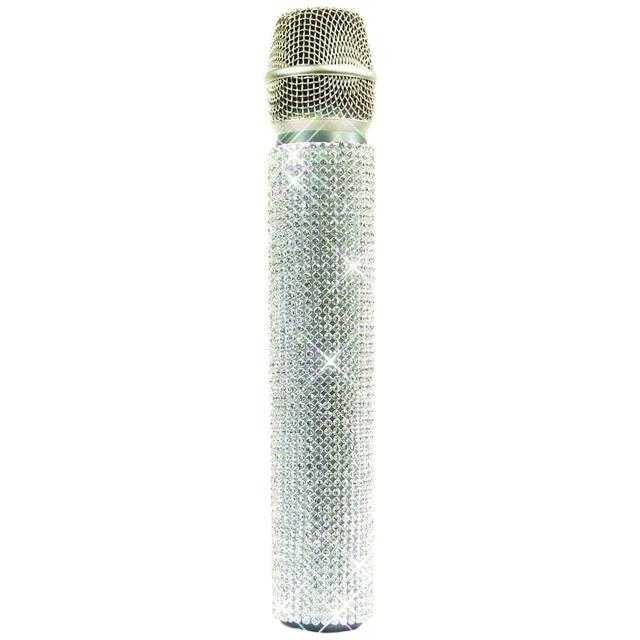microphone: (268, 8, 378, 630)
